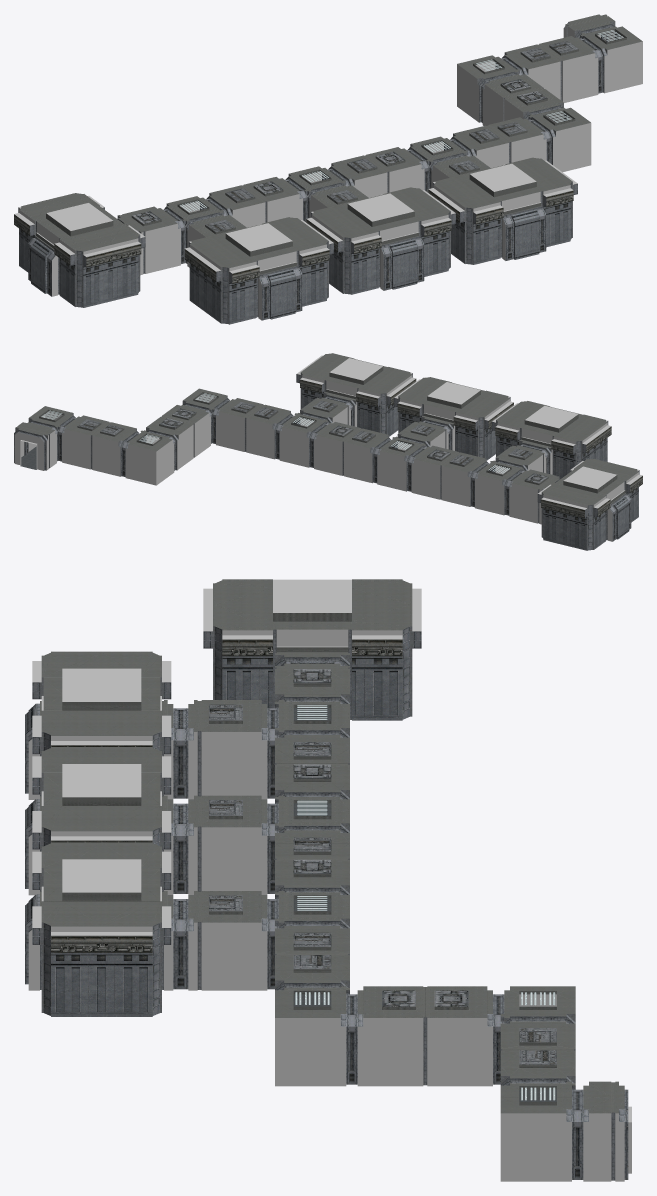
File: poi_all_impl_bunker_imperial_prison_s01_r15_max_security_mesh_r15.fbx
The picture shows the model from 3 angles, top to bottom: view 1: azimuth 30°, elevation 25°; view 2: azimuth 150°, elevation 25°; view 3: azimuth 270°, elevation 25°; orthographic projection. The views are drawn at different scales.
Visible parts, largest first — view 1: mesh_node; view 2: mesh_node; view 3: mesh_node.
Part boxes in pixels (<box>): mesh_node: <box>14,14,642,324</box>; mesh_node: <box>14,353,642,550</box>; mesh_node: <box>25,579,631,1181</box>.
Size of the model in its own units: 65.3 by 5.8 by 32.3.
